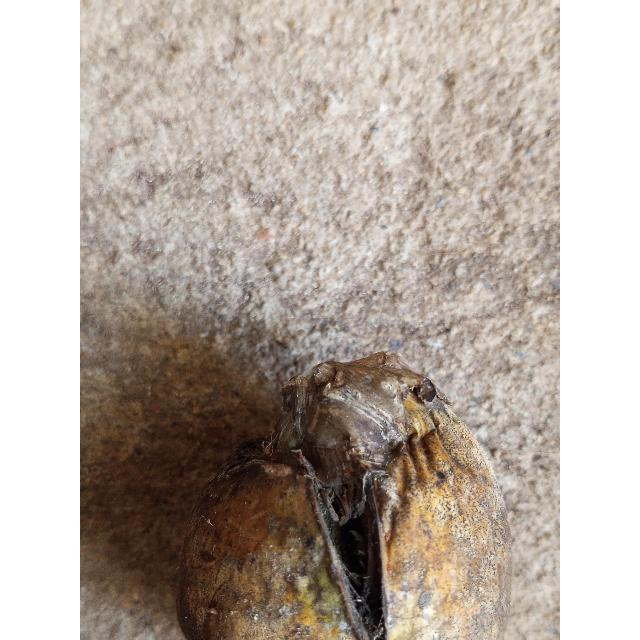damaged: (173, 355, 512, 640)
